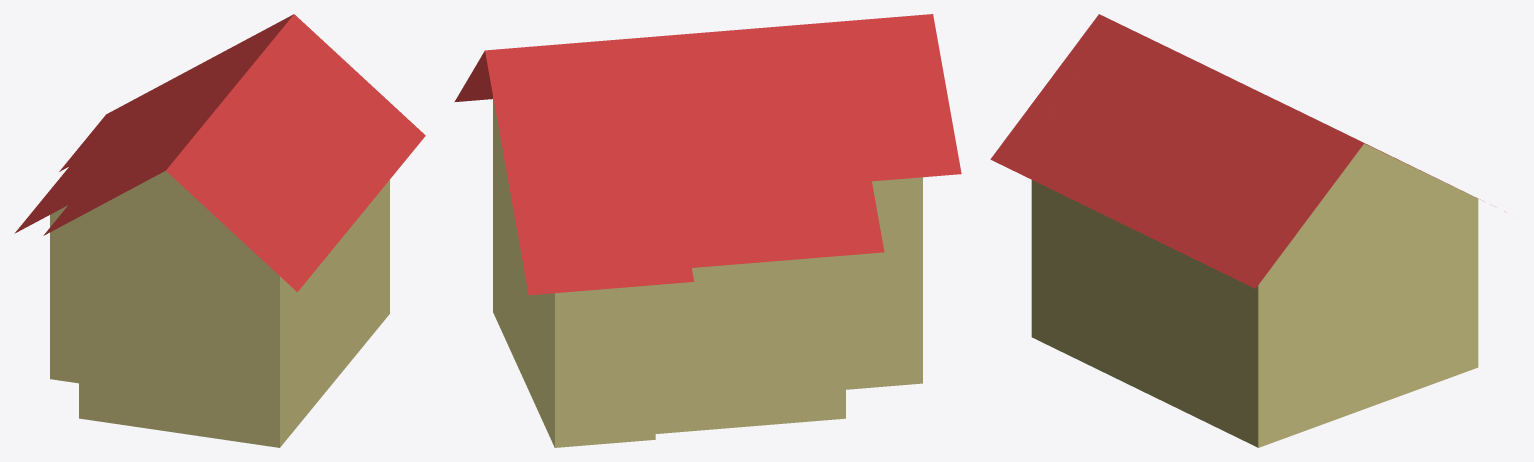
3 renders of one model, left to right at view 1: azimuth 30°, elevation 25°; view 2: azimuth 150°, elevation 25°; view 3: azimuth 270°, elevation 25°, orthographic. The views are drawn at different scales.
Size of the model in its own units: 16.68 by 18.07 by 10.63.
